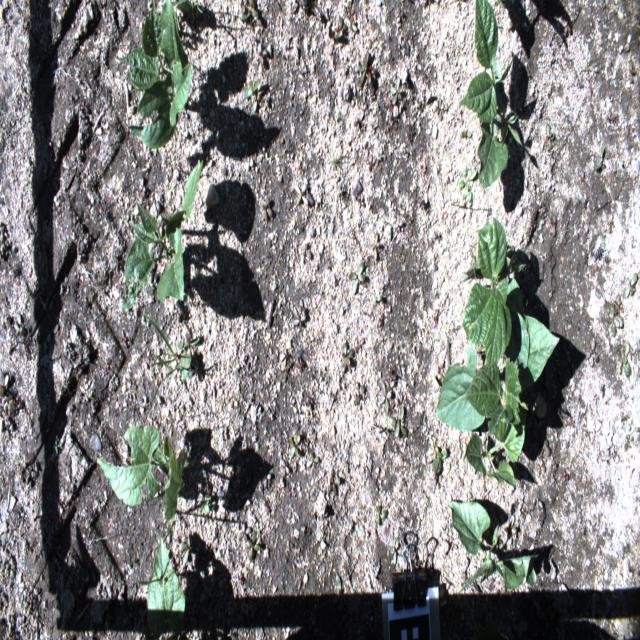crop: (435, 277, 560, 444), (120, 160, 203, 311), (458, 0, 522, 187), (114, 1, 192, 148), (460, 218, 526, 370), (96, 424, 190, 519), (448, 500, 538, 596), (463, 407, 527, 492), (147, 536, 186, 634), (176, 332, 200, 382)
weed: (142, 312, 198, 401), (357, 50, 376, 86), (458, 165, 476, 203), (389, 406, 408, 438), (378, 379, 395, 414), (606, 302, 623, 336), (238, 0, 258, 28), (615, 342, 631, 377), (349, 262, 366, 294), (244, 78, 260, 110), (326, 468, 341, 496), (293, 297, 307, 327), (584, 338, 599, 366), (247, 530, 260, 562), (340, 343, 354, 372), (390, 537, 404, 566), (431, 447, 447, 472), (623, 272, 637, 299), (178, 534, 190, 565), (504, 516, 516, 547), (369, 232, 380, 262), (391, 77, 402, 107), (259, 197, 272, 222), (334, 15, 347, 40), (12, 313, 25, 337), (288, 433, 300, 459), (354, 380, 366, 406), (237, 522, 252, 542), (295, 182, 308, 205), (336, 574, 349, 597), (537, 439, 551, 459), (278, 345, 288, 372), (545, 124, 554, 152), (376, 506, 387, 528), (612, 294, 624, 314), (305, 451, 319, 468), (345, 15, 357, 34), (534, 458, 546, 477), (595, 147, 605, 169), (628, 58, 636, 84), (200, 495, 210, 515), (0, 374, 9, 396), (355, 336, 365, 354), (264, 471, 272, 490), (282, 460, 290, 478), (372, 293, 382, 304)
